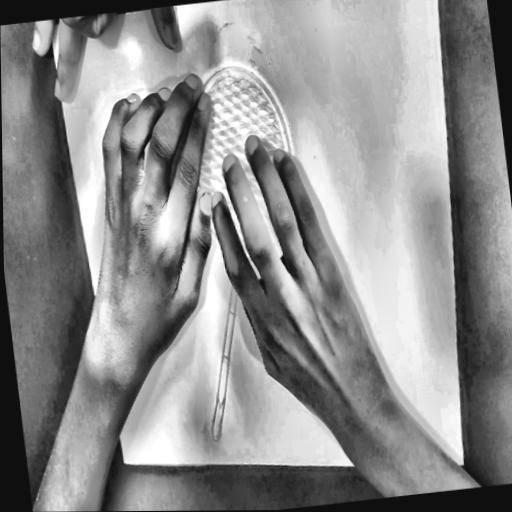badminton: (136, 44, 386, 471)
bottom_left: (120, 454, 129, 469)
bottom_right: (458, 457, 468, 470)
